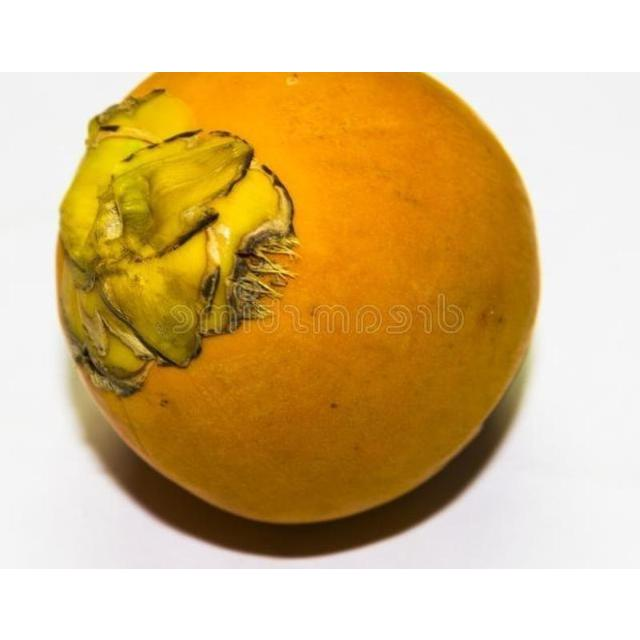good: (55, 71, 538, 528)
